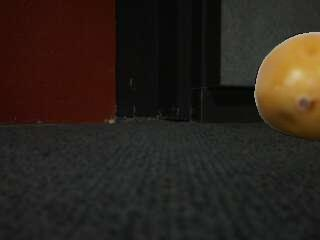Potato: (254, 32, 320, 141)
